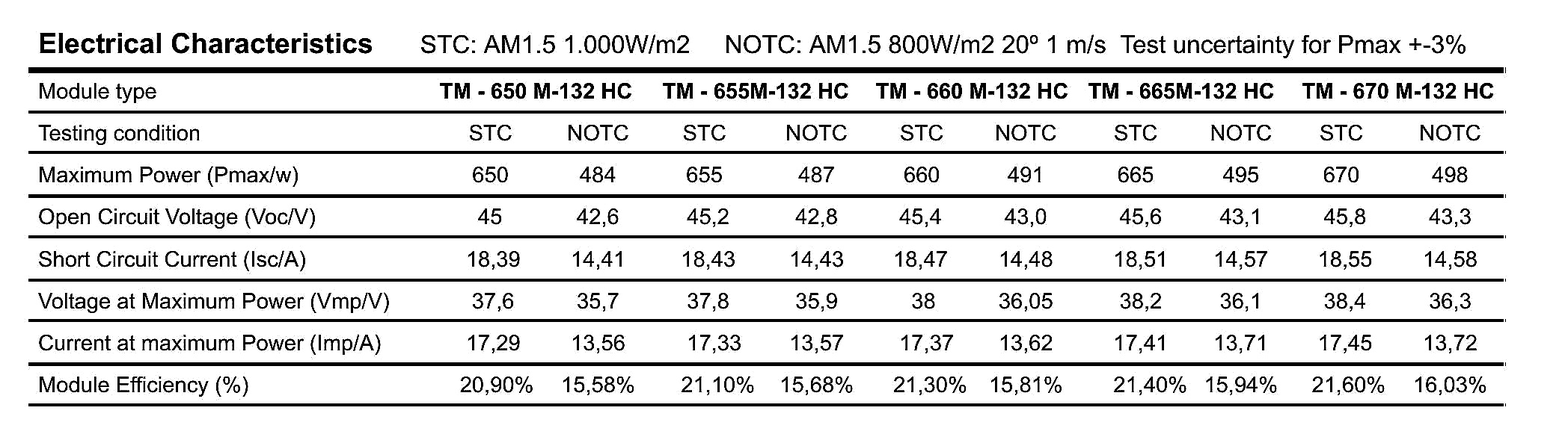table: (5, 11, 1527, 415)
table column: (15, 19, 407, 403), (409, 21, 549, 403), (862, 24, 978, 403), (1079, 26, 1196, 400), (1395, 29, 1511, 400), (660, 24, 771, 403), (549, 22, 658, 403), (1294, 29, 1398, 403), (979, 22, 1080, 401), (1196, 29, 1290, 403), (771, 25, 864, 398)
table column header: (12, 72, 1516, 112), (10, 112, 1514, 152)
table name: (13, 24, 1512, 70)
table row: (13, 154, 1519, 194), (15, 26, 1517, 66), (15, 323, 1519, 362), (16, 241, 1519, 279), (10, 114, 1517, 151), (15, 282, 1519, 318), (17, 199, 1519, 235), (13, 74, 1517, 109), (16, 368, 1516, 401)
table row header: (13, 25, 409, 405)
table spanning cell: (12, 24, 1519, 70), (410, 69, 660, 111), (1292, 68, 1519, 109), (657, 70, 869, 110), (1082, 70, 1290, 109), (869, 71, 1081, 108)
